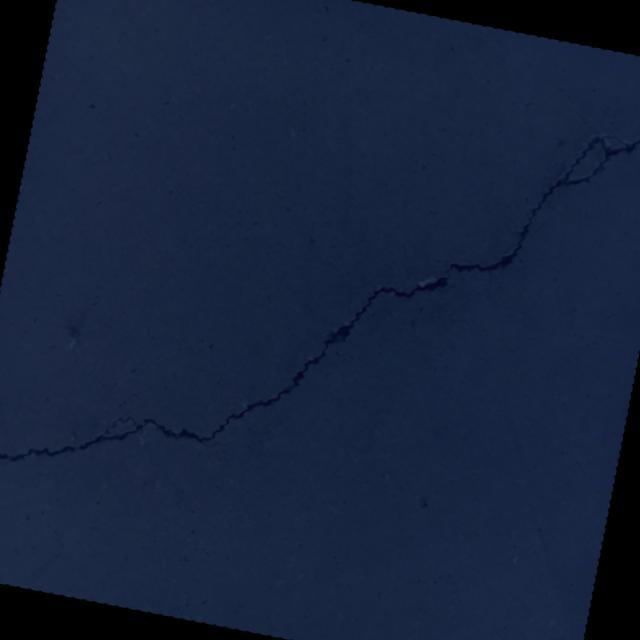crack: (0, 3, 640, 615)
